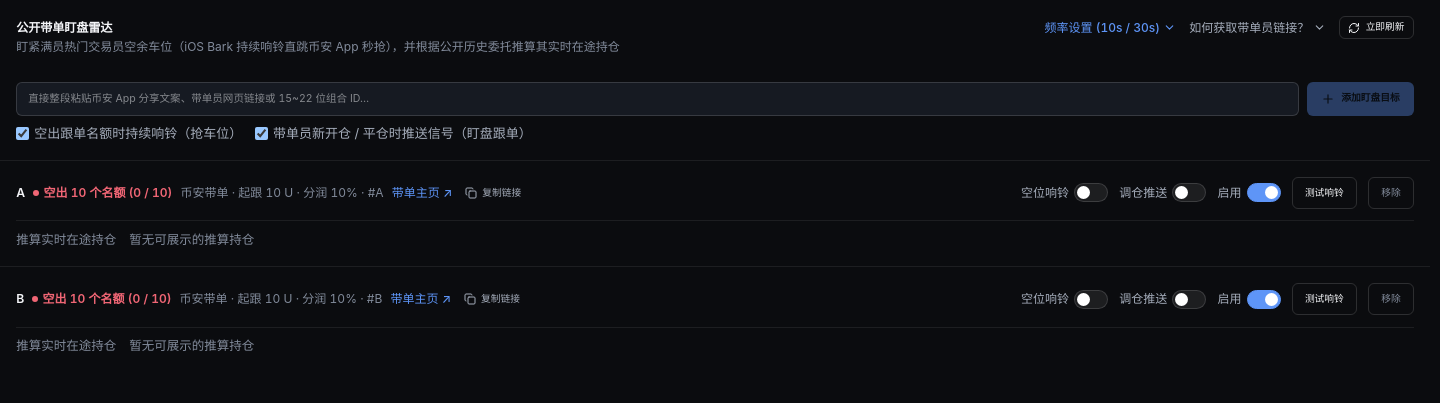
Test: keeps both watchers paused when the first target responds after the second
Click the switch with test id "toggle-enabled-A": click(1264, 193) [1246,183,1280,202]
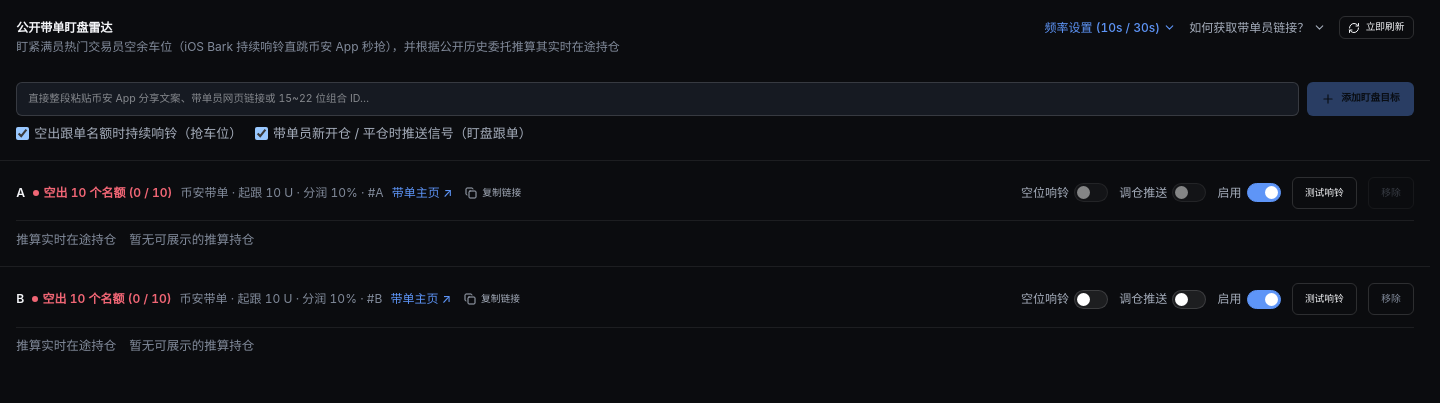
Click the switch with test id "toggle-enabled-B": click(1264, 299) [1246,290,1280,309]
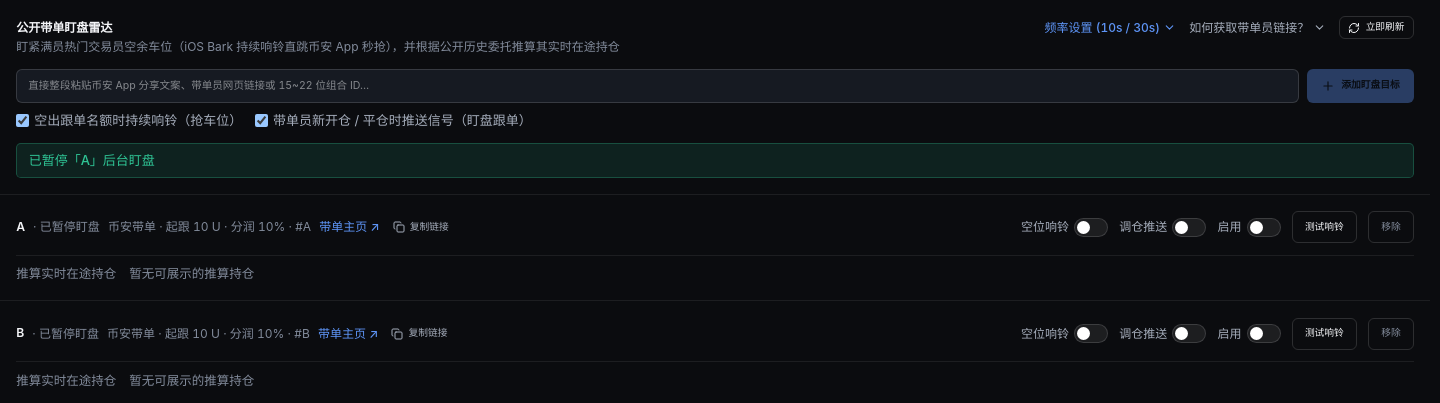
Check: the switch with test id "toggle-enabled-A" is not checked, box [1246,218,1280,237]
Check: the switch with test id "toggle-enabled-B" is not checked, box [1246,324,1280,343]
